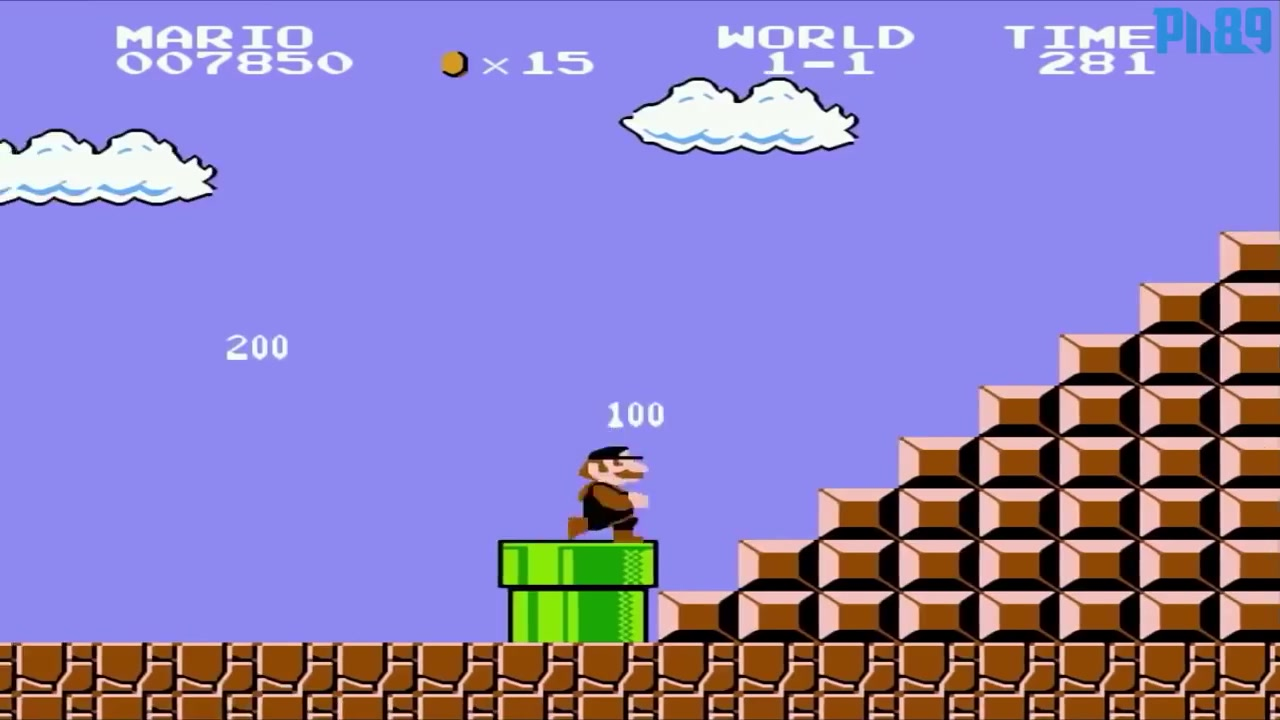mario: (543, 423, 684, 549)
